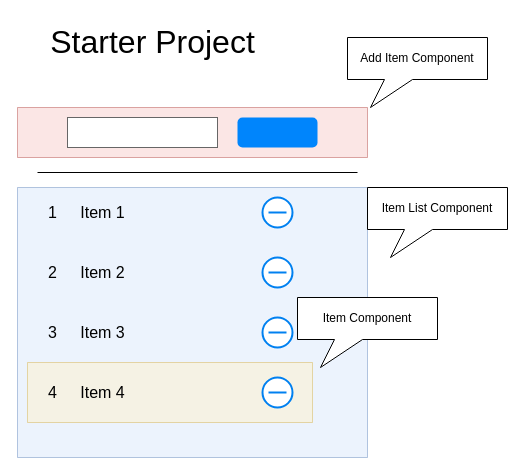
This 525x475 diagram has some shape labels left out. The shapes that lost their labels are listed below. From the top down, each one's centre as x and y in pixels, then its label:
At point 142,132: "Line 1".
At point 277,132: "Add".
